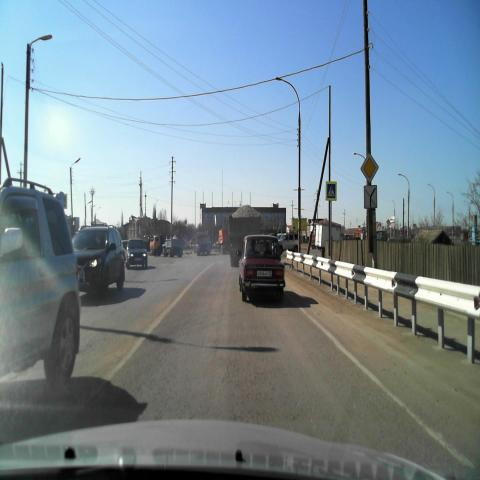8_13: (364, 185, 377, 208)
